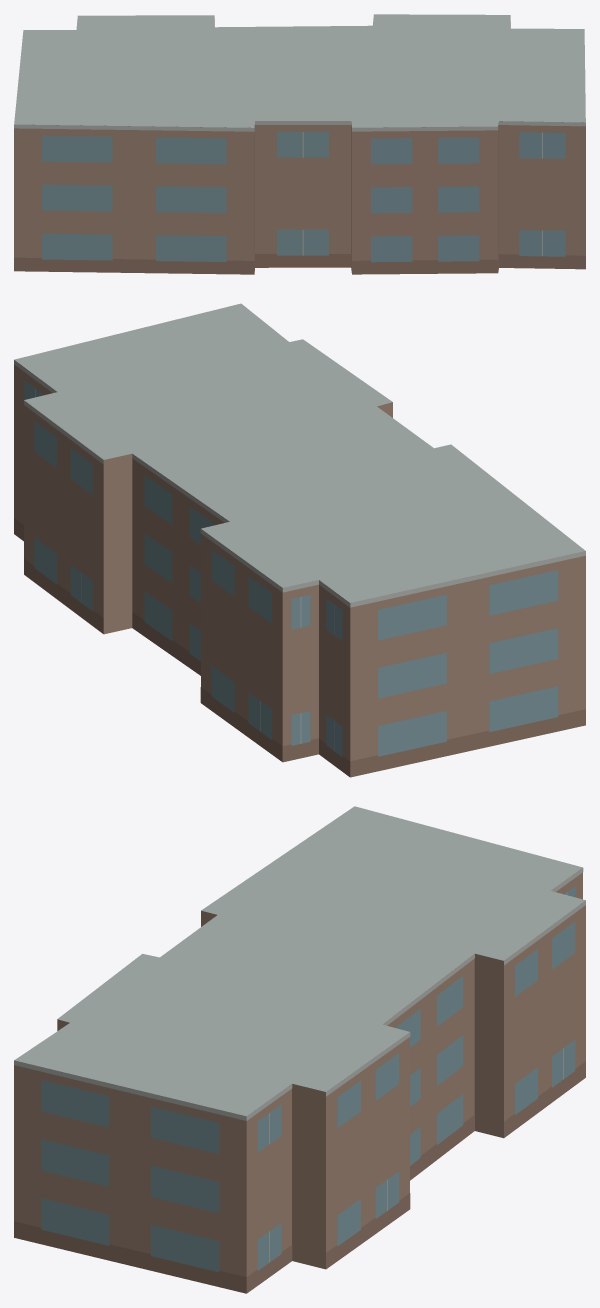
File: survey-upis-32836193.glb
3 views of the same model, one above another, from view 1: azimuth 30°, elevation 25°; view 2: azimuth 150°, elevation 25°; view 3: azimuth 270°, elevation 25° (orthographic). The views are drawn at different scales.
Parts seen in each view (by area): view 1: survey-upis-32836193.tmp; view 2: survey-upis-32836193.tmp; view 3: survey-upis-32836193.tmp.
Part boxes in pixels (x1,y1,x2,y2): survey-upis-32836193.tmp: (14,14,585,274); survey-upis-32836193.tmp: (14,303,585,777); survey-upis-32836193.tmp: (14,806,585,1293).
Size of the model in its own units: 34.32 by 9.15 by 26.74.
